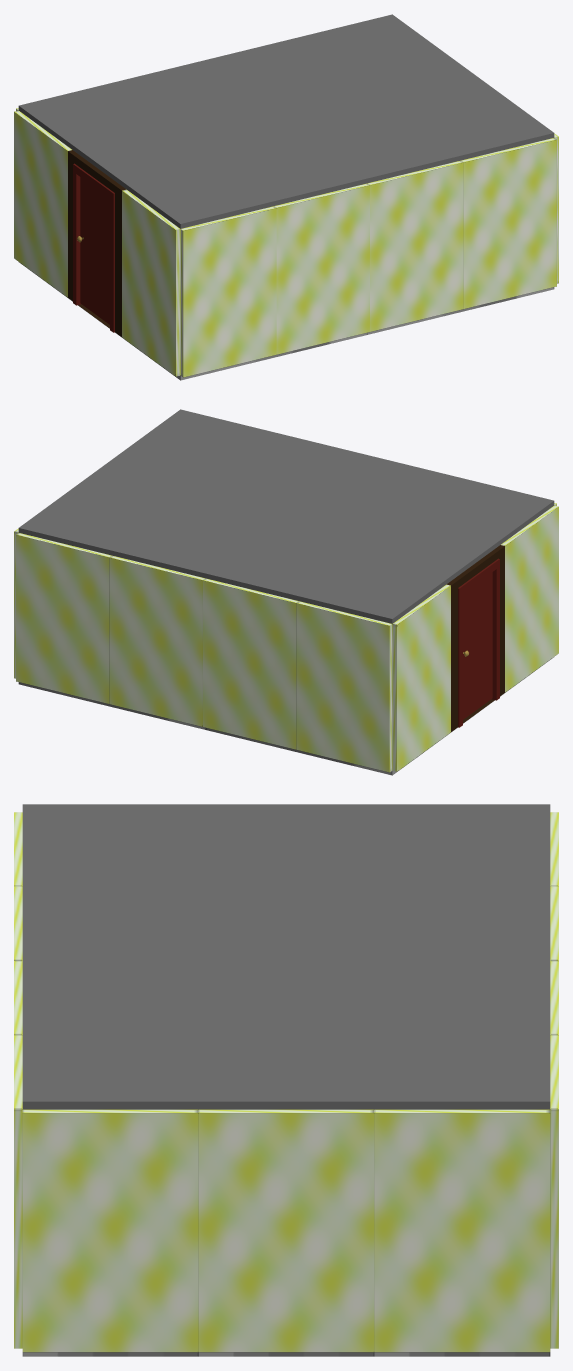
The picture shows the model from 3 angles, top to bottom: view 1: azimuth 30°, elevation 25°; view 2: azimuth 150°, elevation 25°; view 3: azimuth 270°, elevation 25°; orthographic projection. The views are drawn at different scales.
Parts seen in each view (by area): view 1: RoomWall, Ceiling.001, WallDoor, Door, RoomFloor; view 2: RoomWall, Ceiling.001, WallDoor, Door, RoomFloor; view 3: Ceiling.001, RoomWall, RoomFloor.
Boxes of the visible parts, bbox=[...] form: RoomWall: bbox=[14, 108, 558, 377]; Ceiling.001: bbox=[18, 14, 554, 228]; WallDoor: bbox=[68, 150, 126, 336]; Door: bbox=[77, 177, 109, 324]; RoomFloor: bbox=[19, 262, 554, 380]; RoomWall: bbox=[14, 503, 558, 772]; Ceiling.001: bbox=[18, 409, 554, 623]; WallDoor: bbox=[446, 545, 504, 731]; Door: bbox=[463, 572, 492, 719]; RoomFloor: bbox=[18, 657, 553, 775]; Ceiling.001: bbox=[22, 804, 550, 1109]; RoomWall: bbox=[14, 812, 558, 1352]; RoomFloor: bbox=[22, 1352, 550, 1356].
Size of the model in its own units: 829 by 320 by 620.
7 materials, 5 textured.
